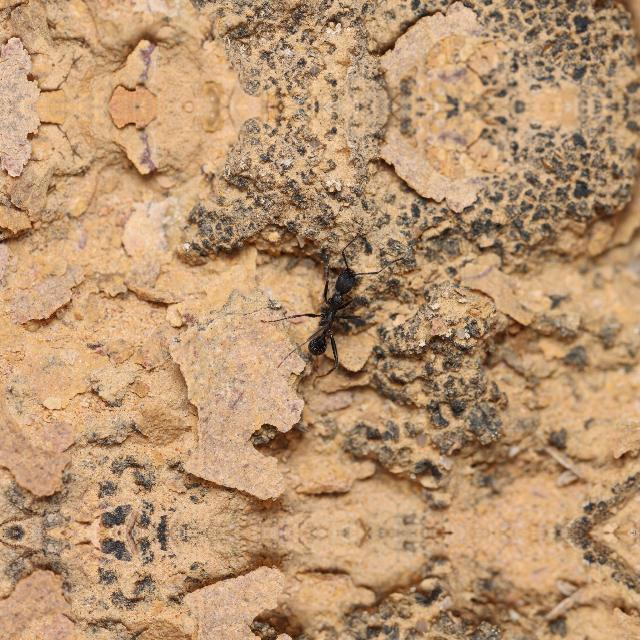Apheanogaster: (286, 260, 378, 366), (176, 522, 192, 532), (176, 533, 192, 543), (188, 493, 200, 503), (188, 562, 200, 572)
